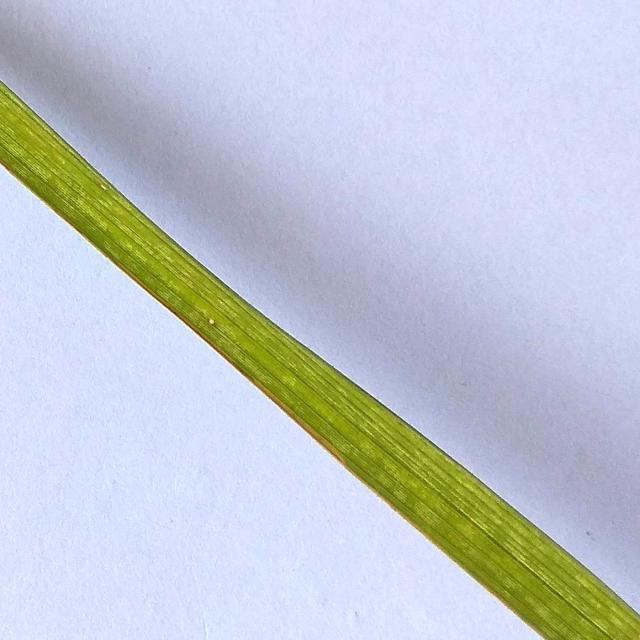Blast: (203, 315, 227, 330), (96, 182, 110, 195)
